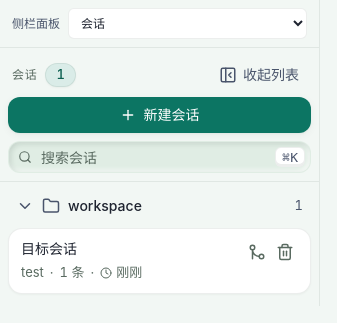
Test case: 搜索会话：防抖 250ms 后携带 query 参数请求服务端，且结果不做客户端二次过滤
This screenshot has width=337, height=323.
Check: the text "目标会话" is shown, box [21,240,77,257]
Type "订单" into the field labelled "搜索会话".
click(160, 157); type("订单")  # box [8,141,311,173]
Wait 300 ms
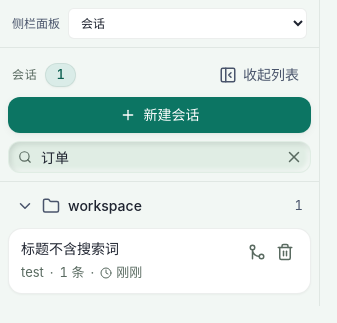
Check: the text "标题不含搜索词" is shown, box [21,240,119,257]
Check: the text "目标会话" is gone
